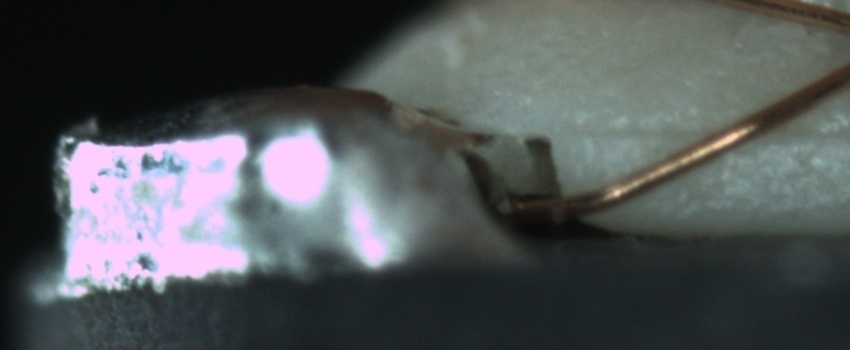DL: (573, 99, 843, 162)
